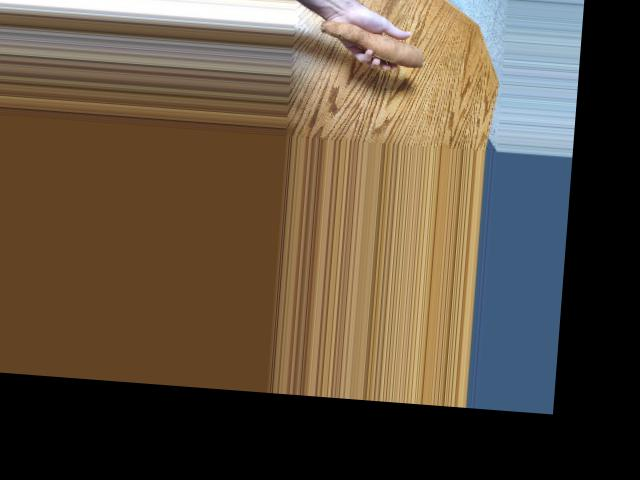sweet_potato: (307, 19, 427, 72)
